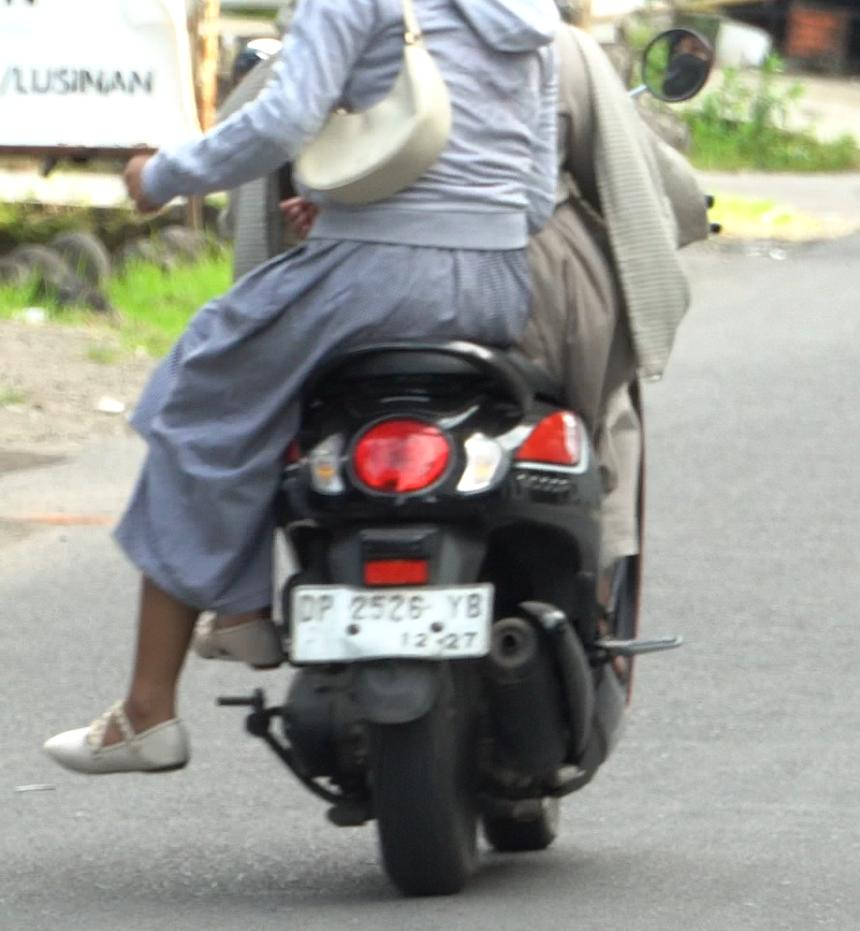number-plate: (281, 580, 504, 664)
